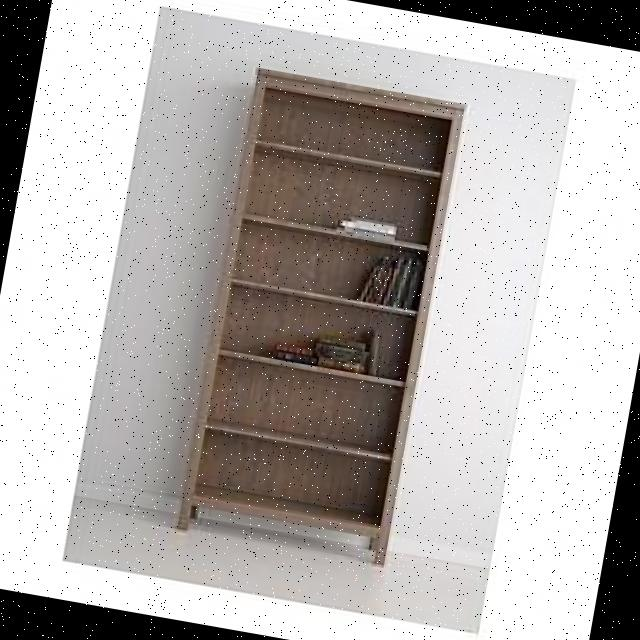Shelf: (169, 60, 472, 574)
